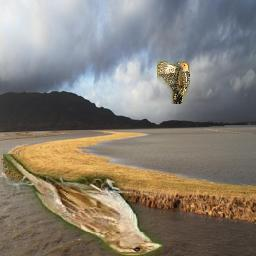Sparrow: (4, 154, 163, 256)
Woodpecker: (158, 62, 191, 105)
